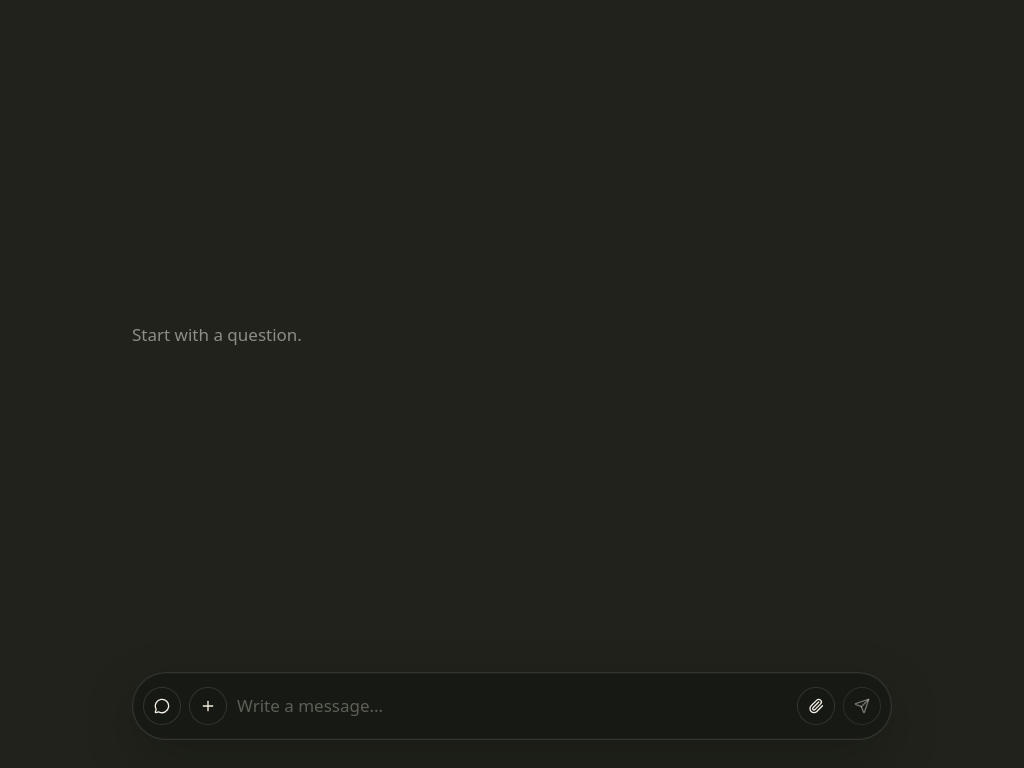
it: Noloong app chat regression harness › keeps session controls inside the composer capsule with accessible names
The image size is (1024, 768).
Expected: the text box with placeholder "Write a message..." is shown, [237,695,787,717]
Expected: the button named "Create session" is shown, [189,687,227,725]
Step 1. Click the button named "Sessions" → click(162, 706), box [143,687,181,725]
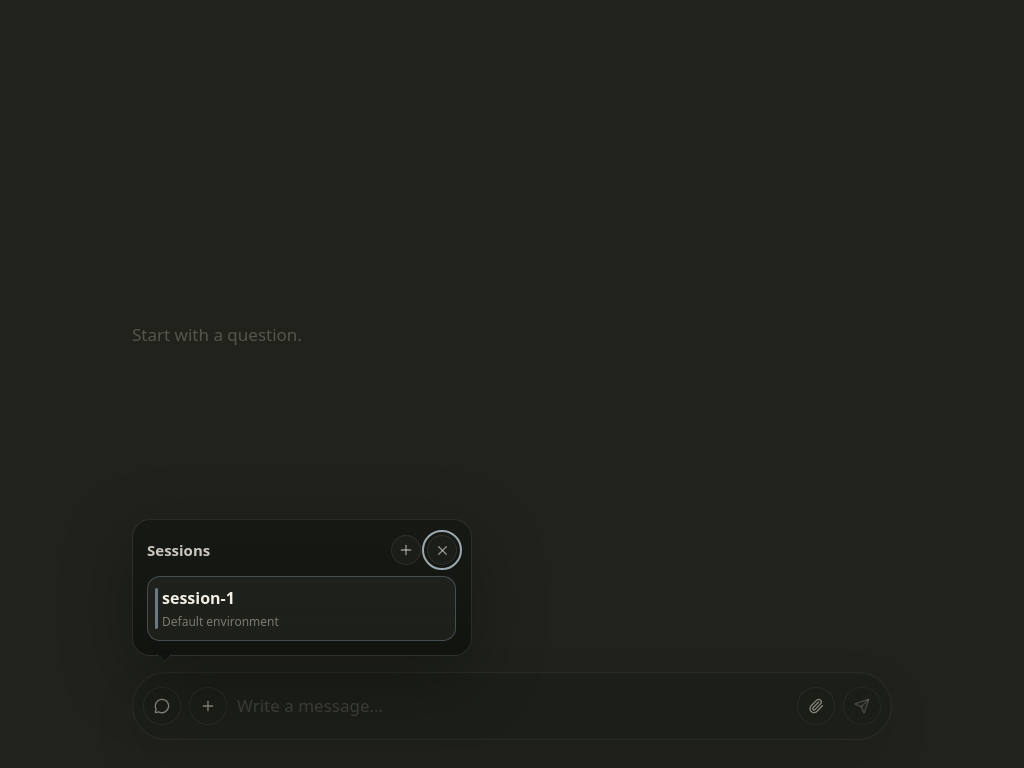
Expected: the dialog "Sessions" is shown, [132,519,472,656]
Expected: the text "Default environment" is shown, [162,613,279,630]
